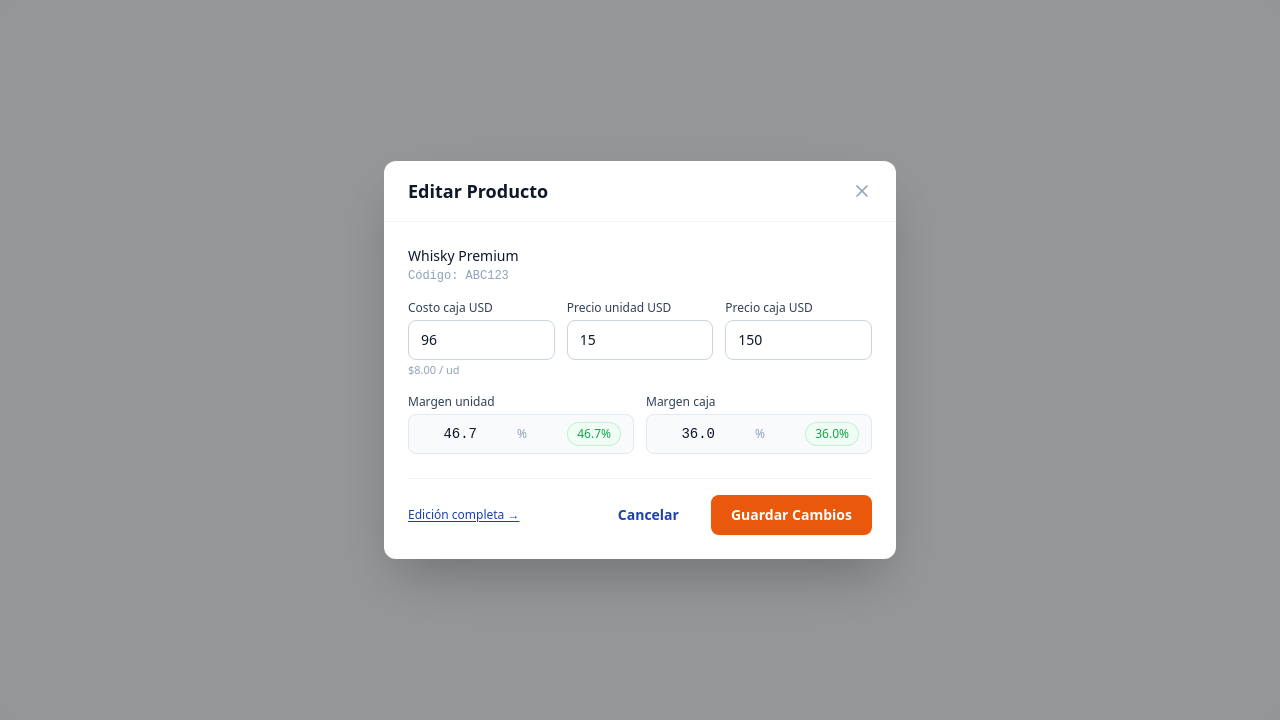
Test: QuickEditModal › updates precio_unidad_usd when typing in margin unit input
# Clear and type a new margin percentage
Replace the text in the field next to "46.7%" with "50" at coordinates (449, 434), box left=421, top=424, right=477, bottom=444
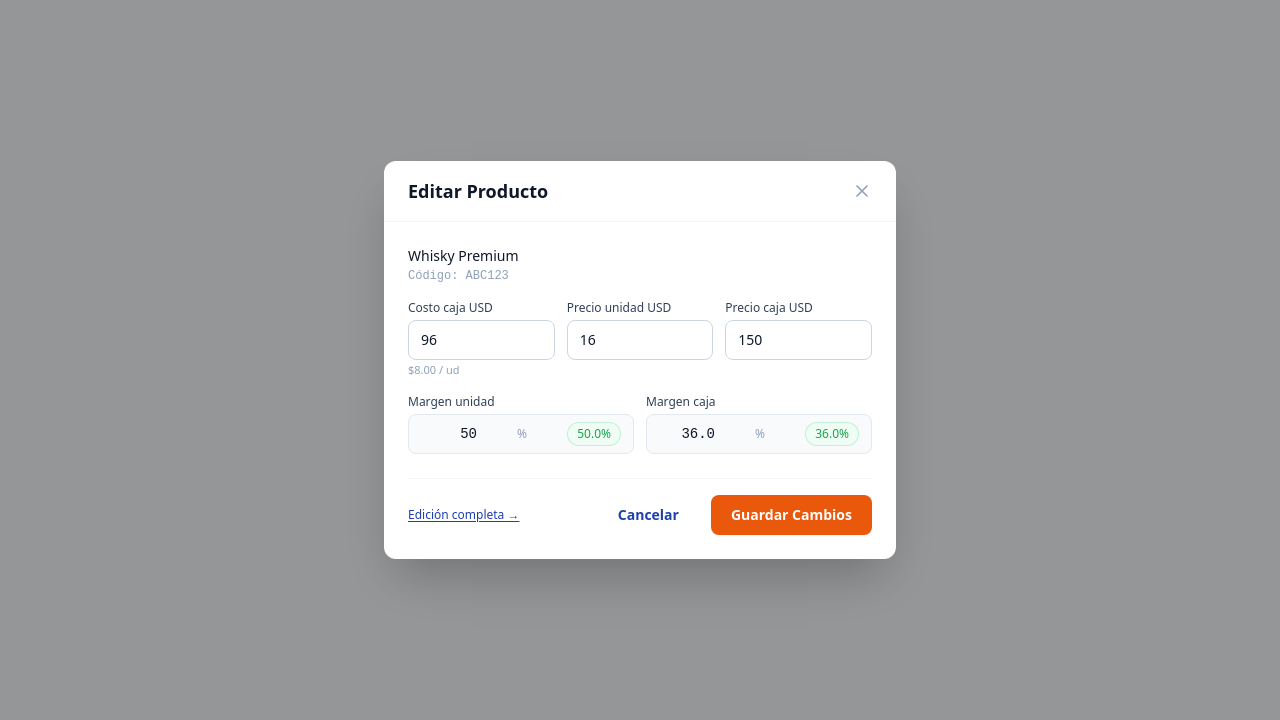
Check: the number field labelled "Precio unidad USD" holds "16", box left=567, top=320, right=713, bottom=360
